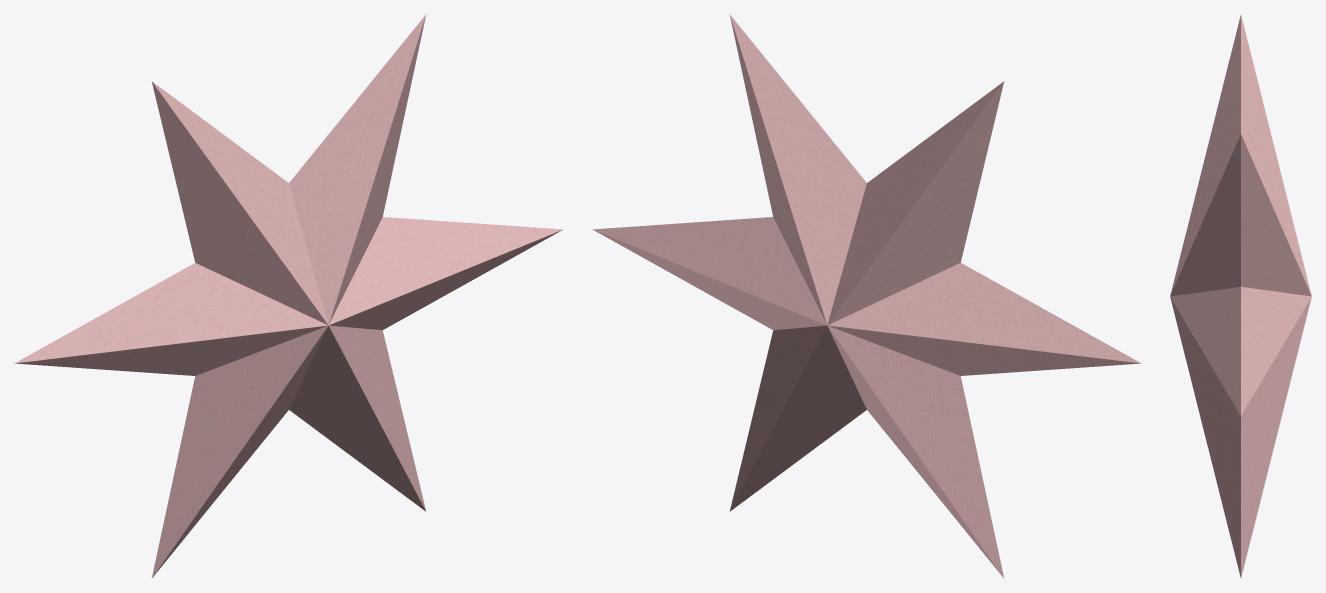
The model's file is star.glb.
3 renders of one model, left to right at view 1: azimuth 30°, elevation 25°; view 2: azimuth 150°, elevation 25°; view 3: azimuth 270°, elevation 25°, orthographic. The views are drawn at different scales.
Visible parts, largest first — view 1: Star; view 2: Star; view 3: Star.
Boxes of the visible parts, box(x1,y1,x2,y2) form: Star: box(14, 14, 563, 578); Star: box(592, 14, 1141, 578); Star: box(1170, 15, 1311, 577).
Size of the model in its own units: 0.2 by 0.1732 by 0.05.
Materials: 1 (1 with a texture image).
